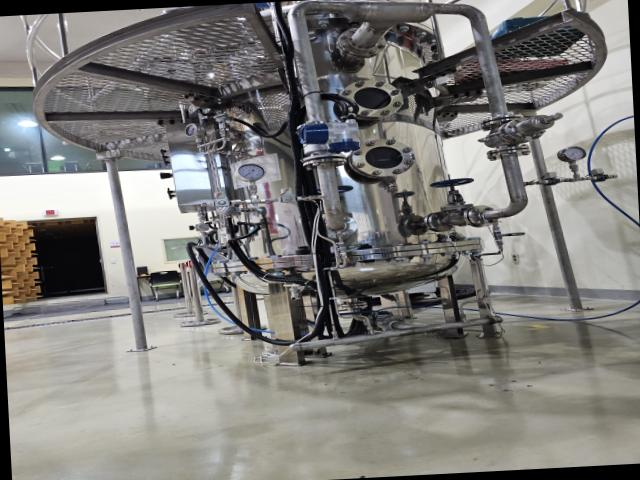Flange: (347, 137, 417, 181), (336, 78, 404, 122)
Flush Ring: (337, 26, 388, 59), (316, 213, 360, 240), (302, 151, 348, 171), (478, 114, 528, 132), (484, 144, 532, 162), (422, 211, 458, 232), (379, 314, 414, 334)
GasRegulator: (184, 112, 258, 160)
Nuts: (209, 197, 241, 209), (274, 193, 304, 204), (586, 172, 612, 184), (540, 177, 564, 187)
Piston Valve: (428, 176, 477, 211), (315, 183, 357, 220)
Pressure Gage: (233, 162, 269, 203), (557, 145, 589, 179)
